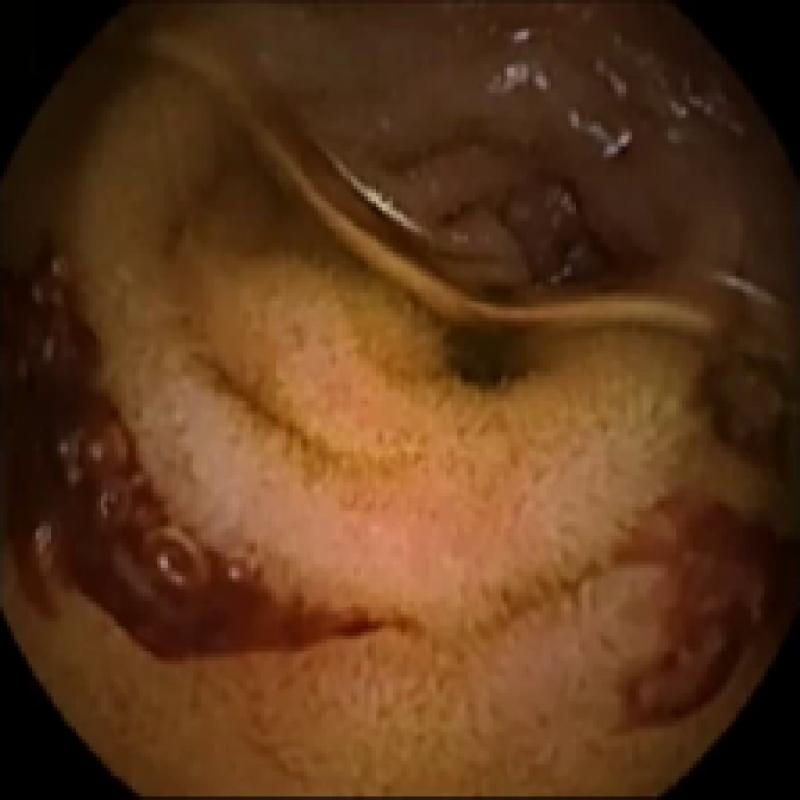bleeding: (18, 246, 403, 654), (617, 477, 786, 735)
